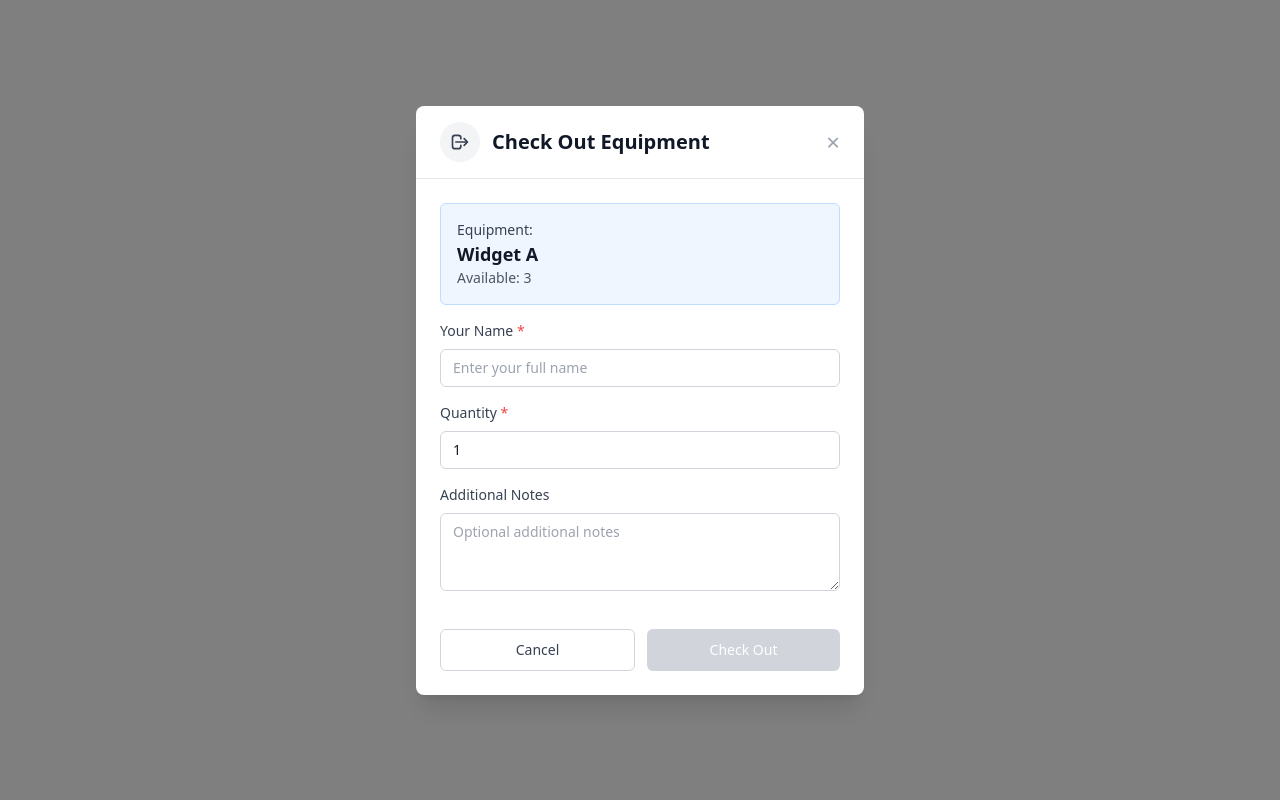
Scenario: EquipmentSignOutModal › requires a name before allowing selection or sign out
The image size is (1280, 800).
Expected: the number field is shown, [440,430,840,468]
Expected: the button "Check Out" is disabled, [647,628,840,670]
Note: Enter name to enable submit
Type "Alice" into the field with placeholder "Enter your full name".
click(640, 368); type("Alice")  # box [440,348,840,386]
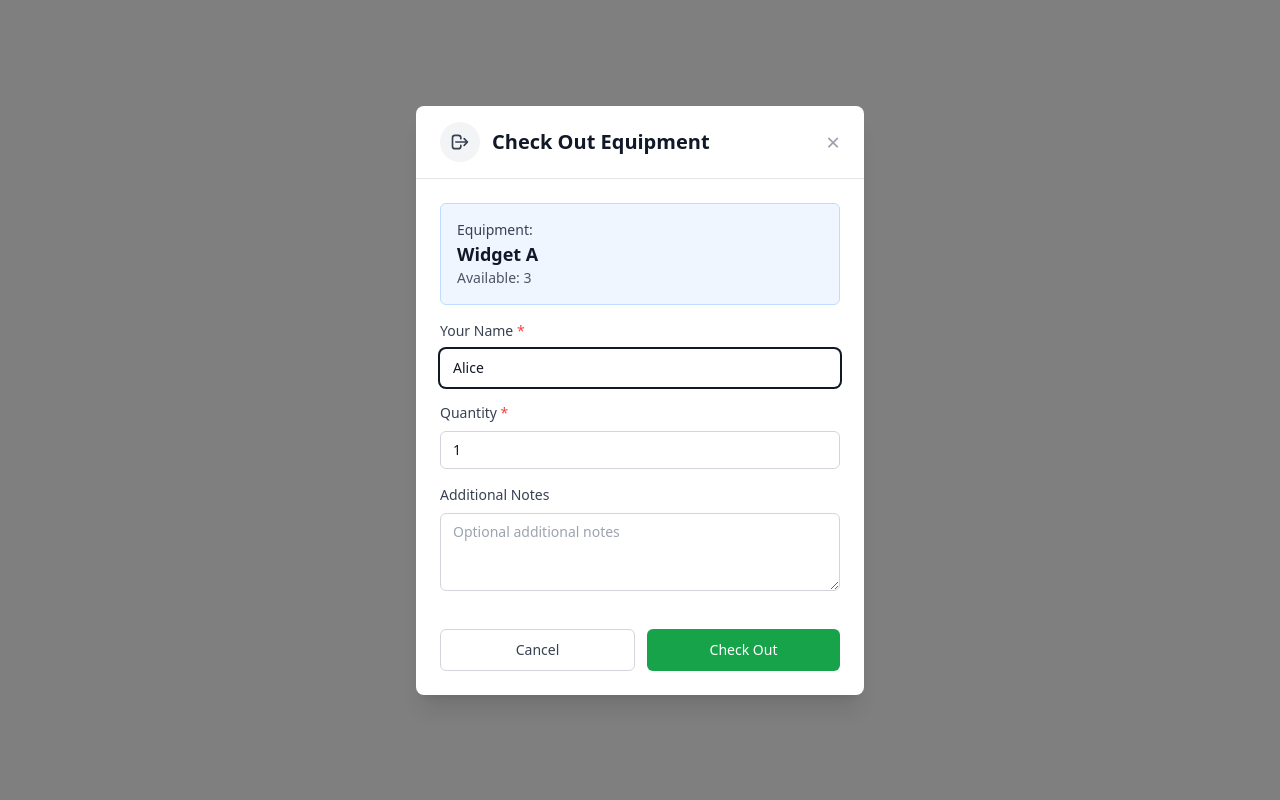
Result: the button "Check Out" is enabled
Note: Submit the form
Click the button "Check Out".
click(744, 650)  # box [647,628,840,670]
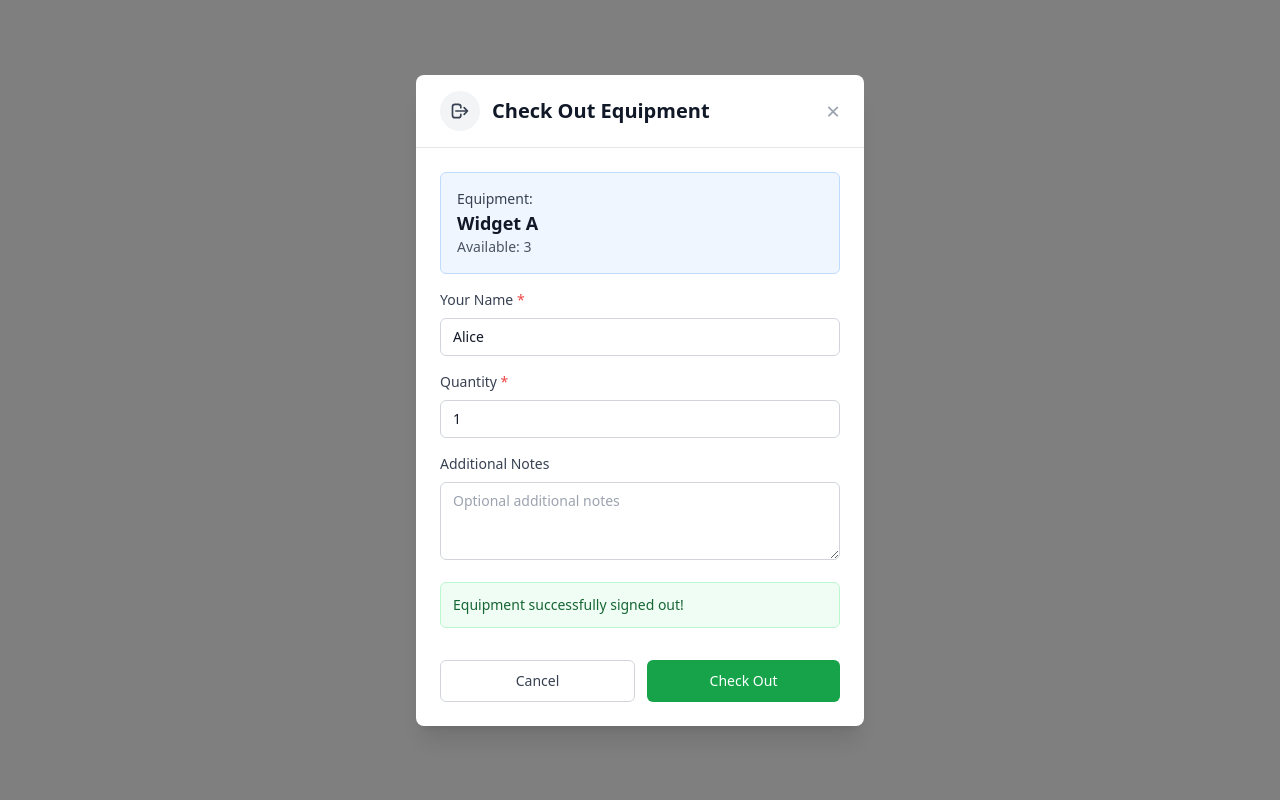
Result: the text "Equipment successfully signed out!" is shown at [440,582,840,628]
